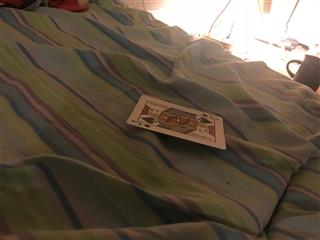JackOfSpades: (125, 94, 227, 151)
